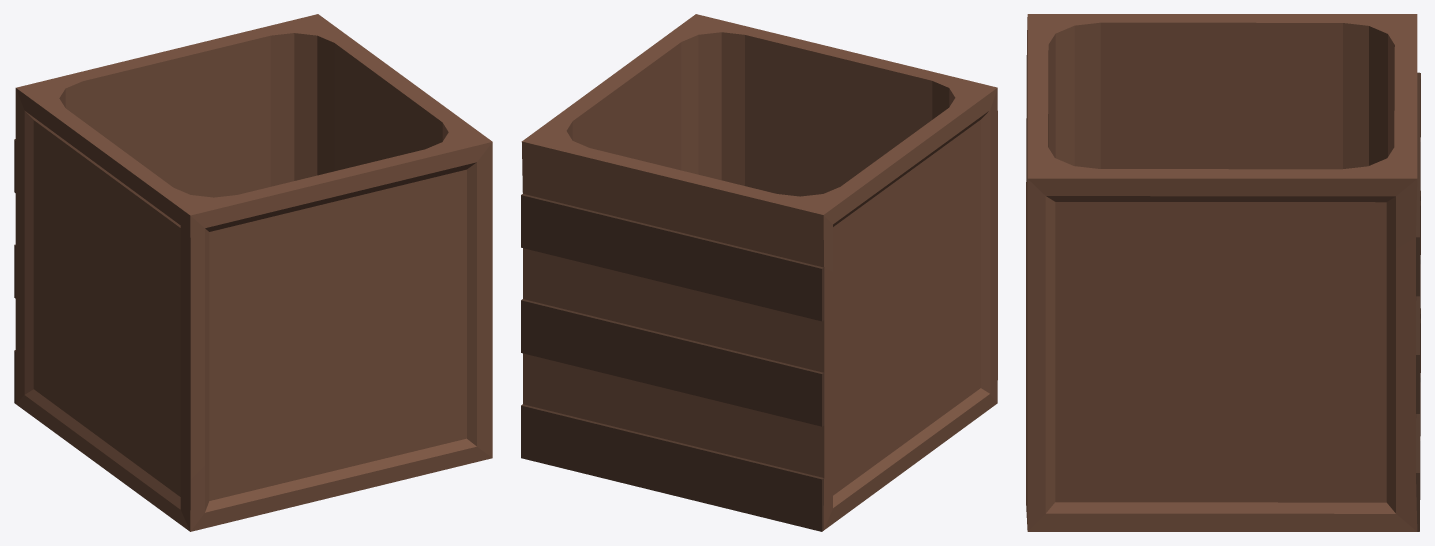
File: EmptyBucket.fbx
The picture shows the model from 3 angles, left to right: view 1: azimuth 30°, elevation 25°; view 2: azimuth 150°, elevation 25°; view 3: azimuth 270°, elevation 25°; orthographic projection. The views are drawn at different scales.
Visible parts, largest first — view 1: Stone_3_Low.006; view 2: Stone_3_Low.006; view 3: Stone_3_Low.006.
Part boxes in pixels (box(x1,y1,x2,y2)): Stone_3_Low.006: box(14, 14, 492, 531); Stone_3_Low.006: box(521, 14, 997, 531); Stone_3_Low.006: box(1026, 14, 1420, 531).
Size of the model in its own units: 120 by 120 by 122.
